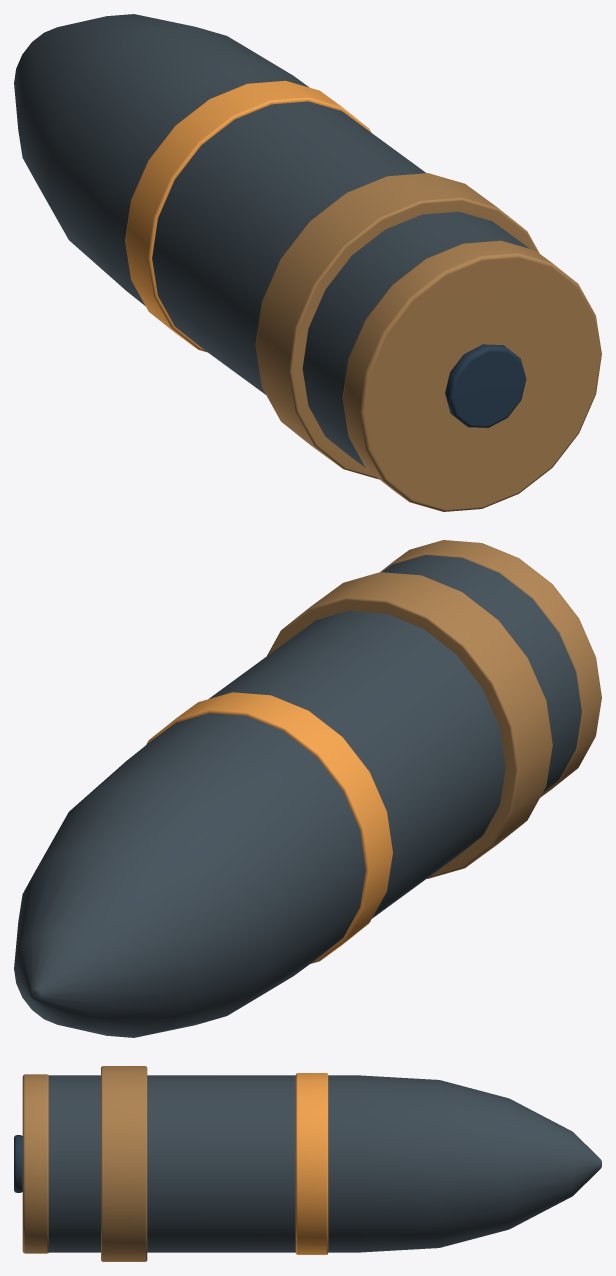
Rendered from artillery_shell.glb.
3 renders of one model, top to bottom at view 1: azimuth 30°, elevation 25°; view 2: azimuth 150°, elevation 25°; view 3: azimuth 270°, elevation 25°, orthographic. The views are drawn at different scales.
Visible parts, largest first — view 1: artillery_shell__ogive_body, artillery_shell__base_plate, artillery_shell__driving_band, artillery_shell__identity_band, artillery_shell__base_mark; view 2: artillery_shell__ogive_body, artillery_shell__driving_band, artillery_shell__identity_band, artillery_shell__base_plate; view 3: artillery_shell__ogive_body, artillery_shell__driving_band, artillery_shell__identity_band, artillery_shell__base_plate, artillery_shell__base_mark.
Boxes of the visible parts, <box> form: artillery_shell__ogive_body: <box>14,14,529,467</box>; artillery_shell__base_plate: <box>342,240,601,511</box>; artillery_shell__driving_band: <box>255,173,539,479</box>; artillery_shell__identity_band: <box>125,80,371,352</box>; artillery_shell__base_mark: <box>445,344,526,427</box>; artillery_shell__ogive_body: <box>14,555,581,1037</box>; artillery_shell__driving_band: <box>267,572,552,878</box>; artillery_shell__identity_band: <box>146,692,392,963</box>; artillery_shell__base_plate: <box>380,540,601,797</box>; artillery_shell__ogive_body: <box>48,1075,601,1252</box>; artillery_shell__driving_band: <box>101,1066,147,1261</box>; artillery_shell__identity_band: <box>295,1073,328,1254</box>; artillery_shell__base_plate: <box>22,1074,48,1253</box>; artillery_shell__base_mark: <box>14,1135,22,1192</box>.
Size of the model in its own units: 0.1122 by 0.1122 by 0.3346.
